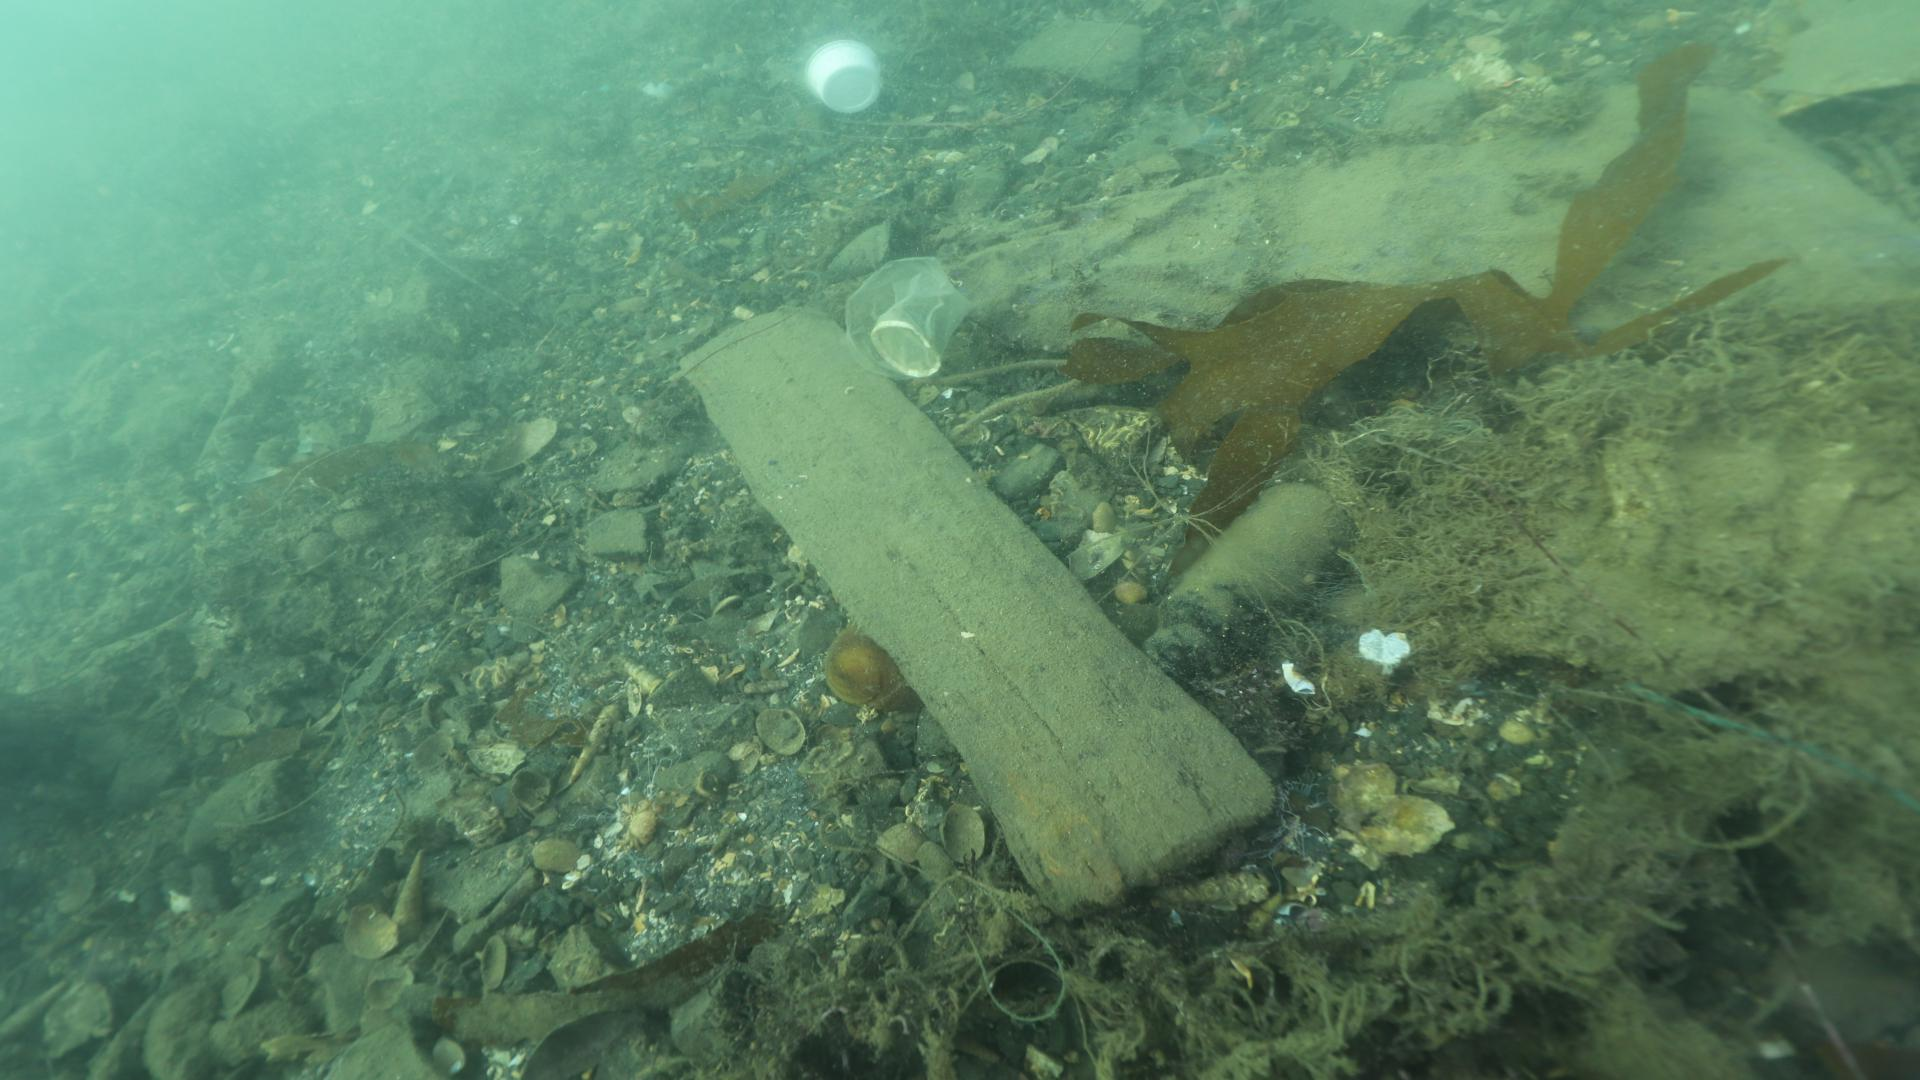wood: (674, 302, 1280, 924)
